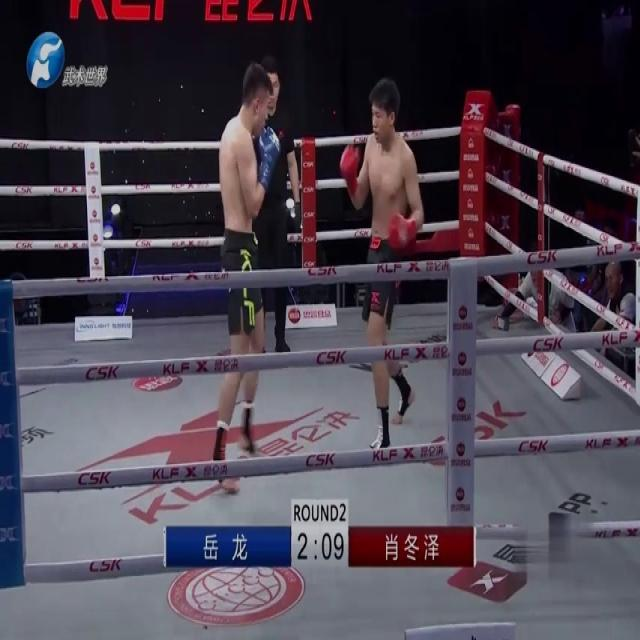fight: (213, 54, 421, 470)
non-fight: (249, 58, 306, 358)
